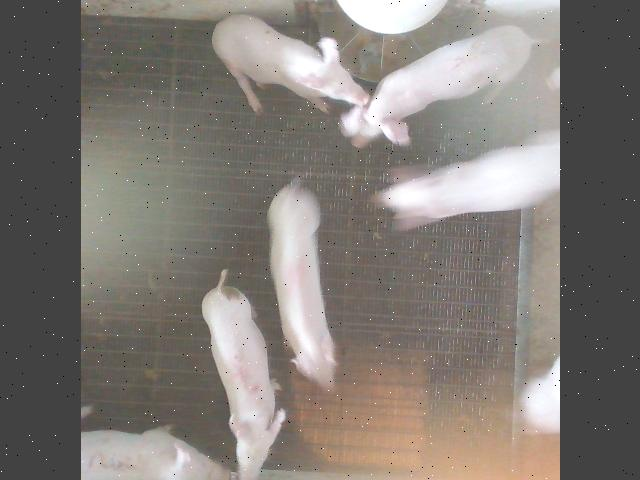pig-3: (80, 426, 228, 480)
pig-4: (268, 180, 334, 390)
pig-5: (201, 270, 284, 480)
